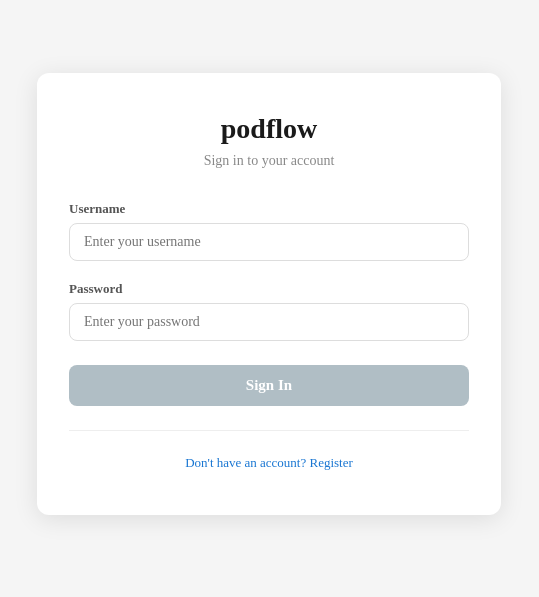
Test case: LoginPage › toggles to register mode
This screenshot has width=539, height=597.
What coordinates should you click on to do the following:
click the button "Don't have an account? Register"
I would click on:
 (269, 463)
Its box is x1=181 y1=451 x2=357 y2=475.
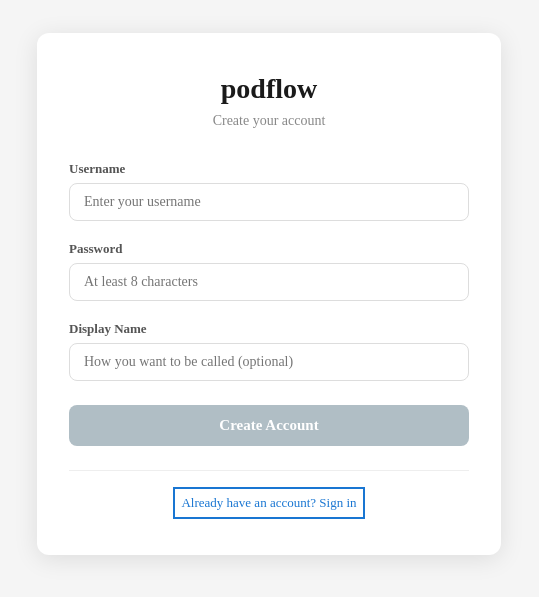
Now the text "Create your account" is shown, box x1=213 y1=113 x2=325 y2=128
Now the button "Create Account" is shown, box x1=69 y1=405 x2=469 y2=446
Now the field labelled "Display Name" is shown, box x1=69 y1=343 x2=469 y2=381
